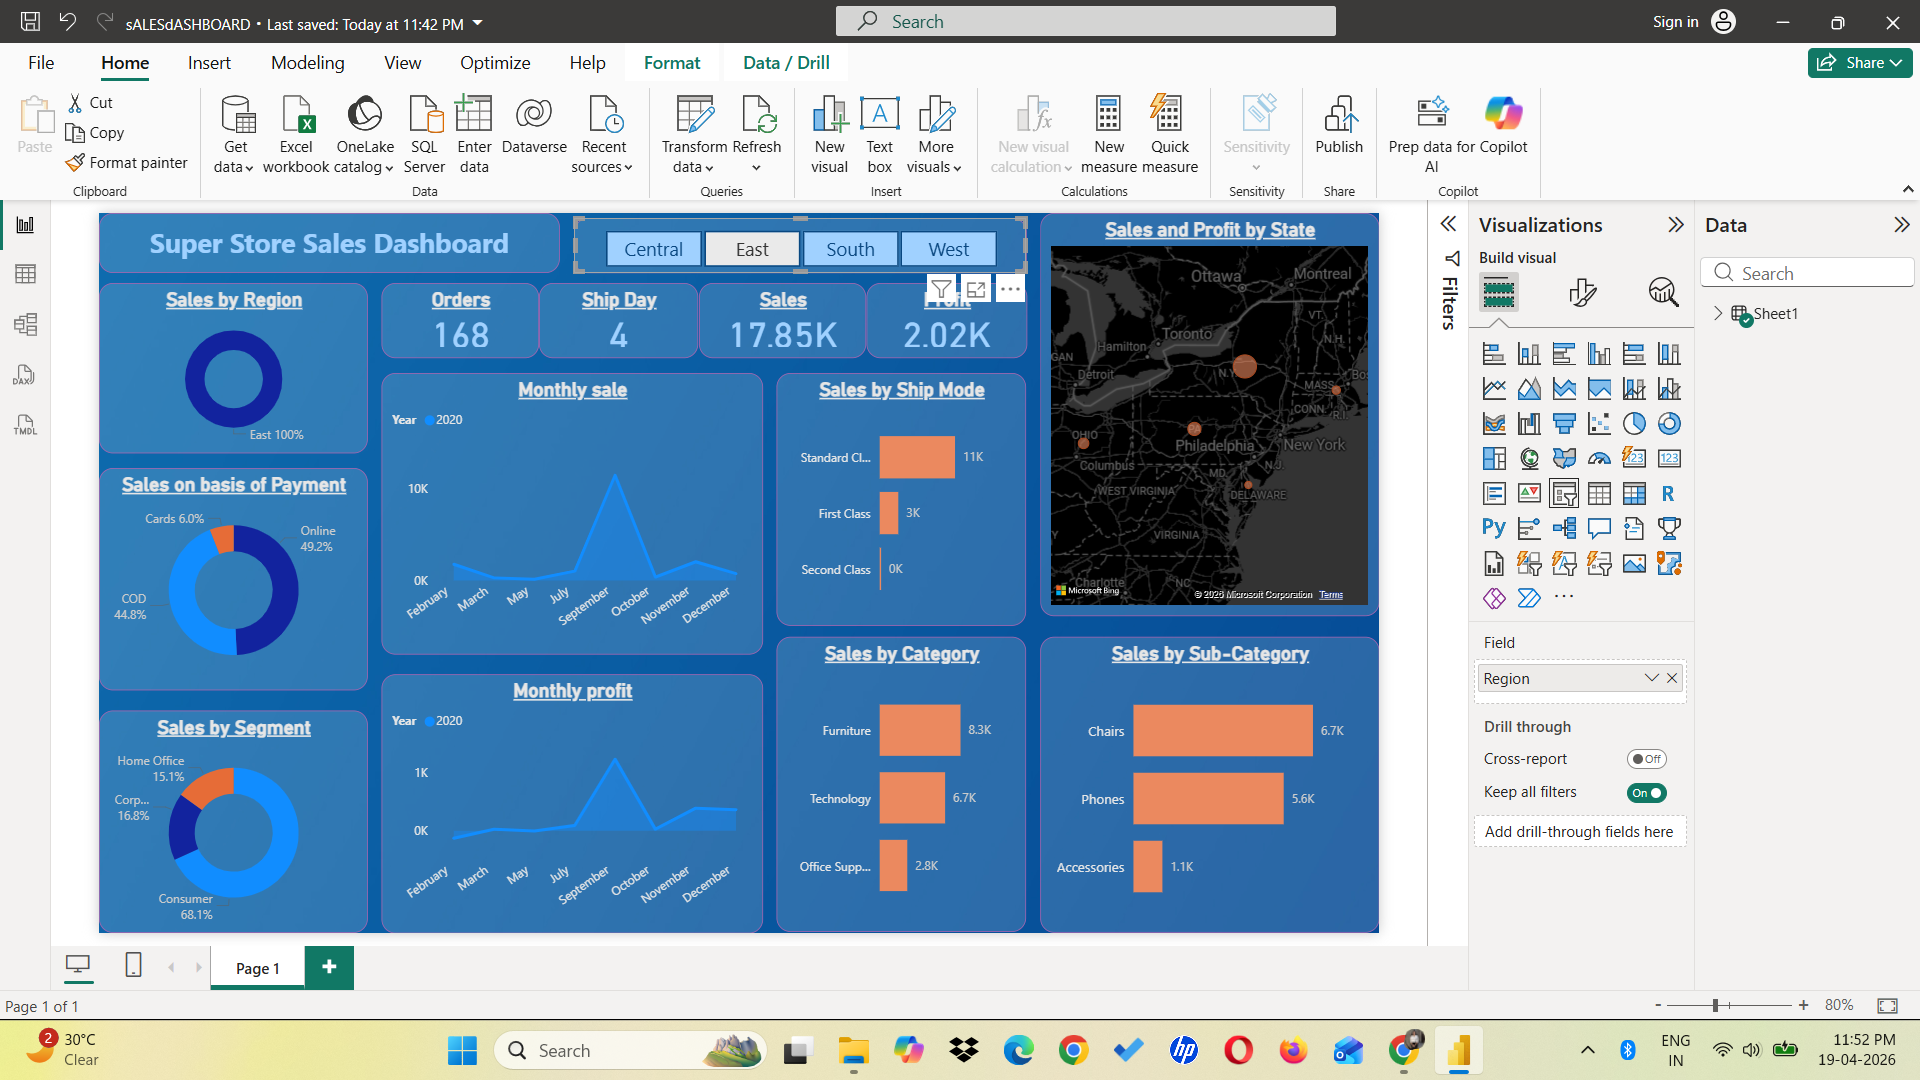

What the dashboard file says about the page in this screenshot:
{"tool":"powerbi","page":{"name":"Page 1","canvas":[1280,720],"ordinal":0},"visuals":[{"type":"clusteredBarChart","title":"Sales by Category","fields":{"Category":["Sheet1.Category"],"Y":["Sum(Sheet1.Sales)"]},"box":[677.9,424,249.7,295],"z":0},{"type":"clusteredBarChart","title":"Sales by Sub-Category","fields":{"Category":["Sheet1.Sub-Category"],"Y":["Sum(Sheet1.Sales)"]},"box":[941.3,424,338.9,296.4],"z":1000},{"type":"clusteredBarChart","title":"Sales by Ship Mode","fields":{"Category":["Sheet1.Ship Mode"],"Y":["Sum(Sheet1.Sales)"]},"box":[677.9,160.5,249.7,252.5],"z":2000},{"type":"stackedAreaChart","title":"Monthly profit","fields":{"Category":["Sheet1.Order Date.Variation.Date Hierarchy.Month","Sheet1.Order Date.Variation.Date Hierarchy.Day"],"Series":["Sheet1.Order Date.Variation.Date Hierarchy.Year"],"Y":["Sum(Sheet1.Profit)"]},"box":[282.7,461.1,381.5,259.3],"z":3000},{"type":"stackedAreaChart","title":"Monthly sale ","fields":{"Y":["Sum(Sheet1.Sales)"],"Category":["Sheet1.Order Date.Variation.Date Hierarchy.Month","Sheet1.Order Date.Variation.Date Hierarchy.Day"],"Series":["Sheet1.Order Date.Variation.Date Hierarchy.Year"]},"box":[282.7,160.5,381.5,281.3],"z":4000},{"type":"map","title":"Sales and Profit by State","fields":{"Category":["Sheet1.State"],"Size":["Sum(Sheet1.Sales)"]},"box":[941.3,0,338.9,403.4],"z":5000},{"type":"donutChart","title":"Sales by Segment","fields":{"Category":["Sheet1.Segment"],"Y":["Sum(Sheet1.Sales)"]},"box":[0,498.1,269,222.3],"z":6000},{"type":"donutChart","title":"Sales on basis of Payment","fields":{"Category":["Sheet1.Payment Mode"],"Y":["Sum(Sheet1.Sales)"]},"box":[0,255.2,269,222.3],"z":7000},{"type":"slicer","fields":{"Values":["Sheet1.Region"]},"box":[474.8,5.5,452.8,54.9],"z":8000},{"type":"textbox","box":[0,0,461.1,60.4],"z":9000},{"type":"card","title":"Sales","fields":{"Values":["Sum(Sheet1.Sales)"]},"box":[599.7,70,167.4,75.5],"z":10000},{"type":"card","title":"Profit","fields":{"Values":["Sum(Sheet1.Profit)"]},"box":[767.1,70,160.5,75.5],"z":11000},{"type":"card","title":"Ship Day","fields":{"Values":["Avg(Sheet1.AvgDelivery)"]},"box":[440.5,70,159.2,75.5],"z":12000},{"type":"card","title":"Orders","fields":{"Values":["Sum(Sheet1.Quantity)"]},"box":[282.7,70,157.8,75.5],"z":13000},{"type":"donutChart","title":"Sales by Region","fields":{"Y":["Sum(Sheet1.Sales)"],"Category":["Sheet1.Region"]},"box":[0,70,269,170.2],"z":13001}]}

Visuals, with their boxes on the page's 1280x720 design canvas (x1, y1, x2, y2). These are canvas units, not pixel positions in the 1920x1080 screenshot, which may show the page scaled, cropped or inside an application window:
"Sales by Category" clusteredBarChart: x1=678 y1=424 x2=928 y2=719
"Sales by Sub-Category" clusteredBarChart: x1=941 y1=424 x2=1280 y2=720
"Sales by Ship Mode" clusteredBarChart: x1=678 y1=160 x2=928 y2=413
"Monthly profit" stackedAreaChart: x1=283 y1=461 x2=664 y2=720
"Monthly sale " stackedAreaChart: x1=283 y1=160 x2=664 y2=442
"Sales and Profit by State" map: x1=941 y1=0 x2=1280 y2=403
"Sales by Segment" donutChart: x1=0 y1=498 x2=269 y2=720
"Sales on basis of Payment" donutChart: x1=0 y1=255 x2=269 y2=478
slicer - Sheet1.Region: x1=475 y1=6 x2=928 y2=60
textbox: x1=0 y1=0 x2=461 y2=60
"Sales" card: x1=600 y1=70 x2=767 y2=146
"Profit" card: x1=767 y1=70 x2=928 y2=146
"Ship Day" card: x1=440 y1=70 x2=600 y2=146
"Orders" card: x1=283 y1=70 x2=440 y2=146
"Sales by Region" donutChart: x1=0 y1=70 x2=269 y2=240
